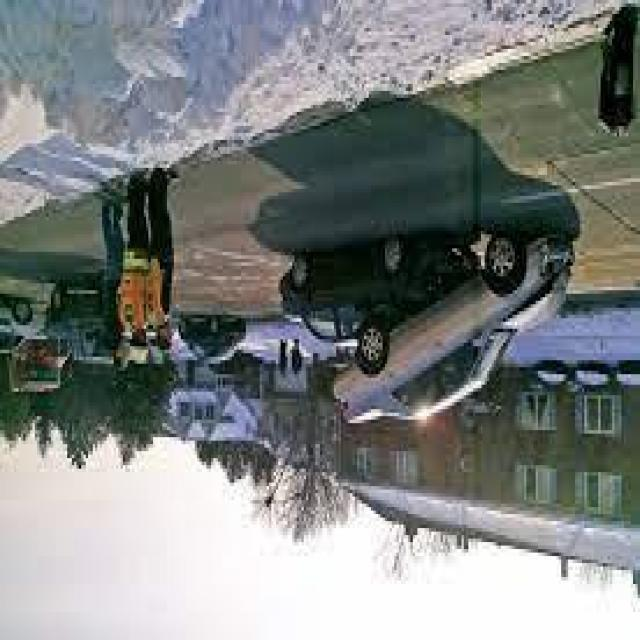severe: (276, 222, 578, 432)
